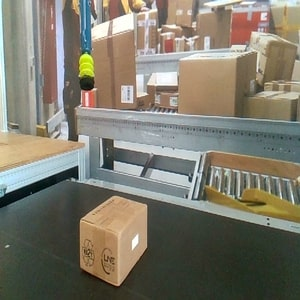box: (78, 194, 149, 288)
